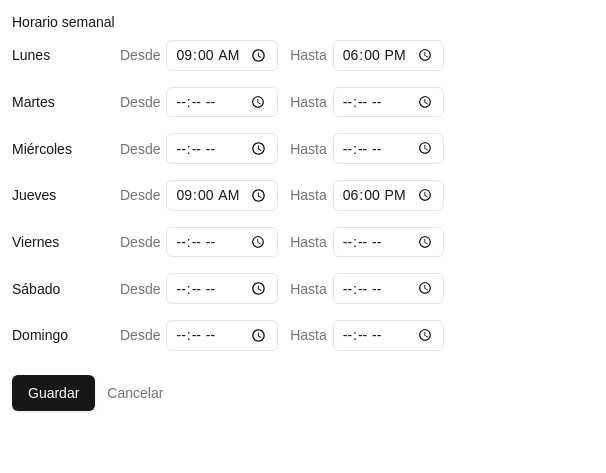
WeeklyScheduleForm - rejection › should_fall_back_to_the_form_level_error_when_no_day_is_named
Step 1. Click the button "Guardar" → (54, 393), box [12,375,95,411]
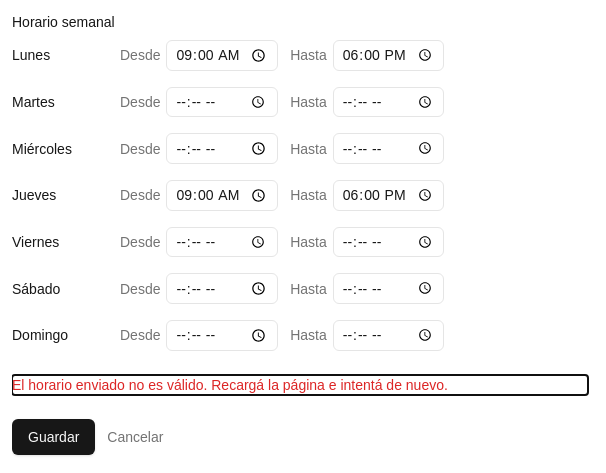
Expected: the message "El horario enviado no es válido. Recargá la página e intentá de nuevo." is shown, [12,377,448,393]
